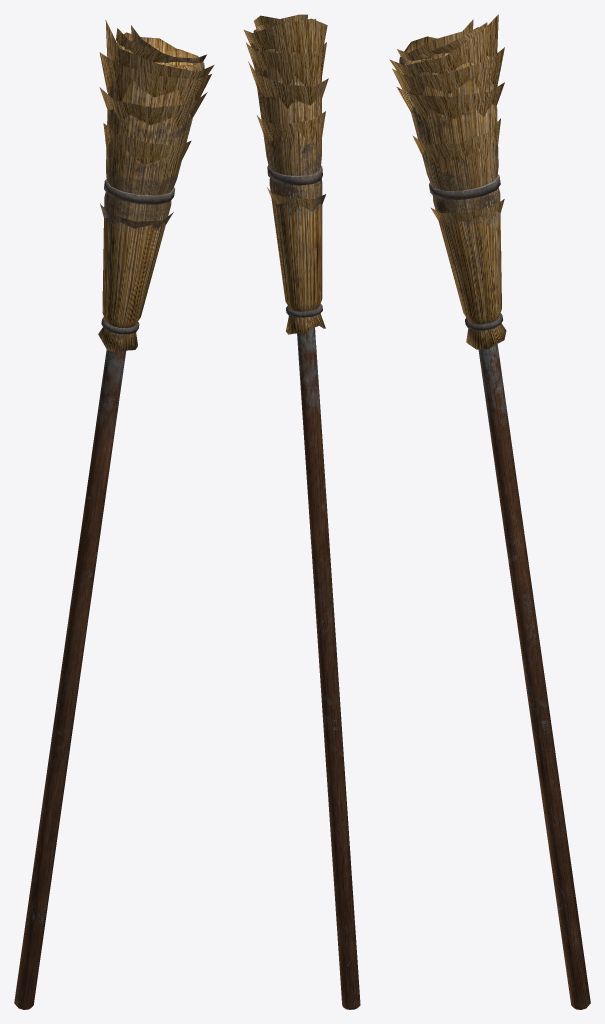
Rendered from BroomSword.glb.
3 views of the same model, side by side, from view 1: azimuth 90°, elevation 25°; view 2: azimuth 210°, elevation 25°; view 3: azimuth 270°, elevation 25° (orthographic). The views are drawn at different scales.
Parts seen in each view (by area): view 1: BroomSword; view 2: BroomSword; view 3: BroomSword.
Boxes of the visible parts, x1,y1,x2,y2 form: BroomSword: (14,20,214,1009); BroomSword: (244,14,360,1009); BroomSword: (389,14,590,1009).
Bounding box in the file's own units: 0.0705 × 1.01 × 0.1855.
Materials: 1 (1 with a texture image).
